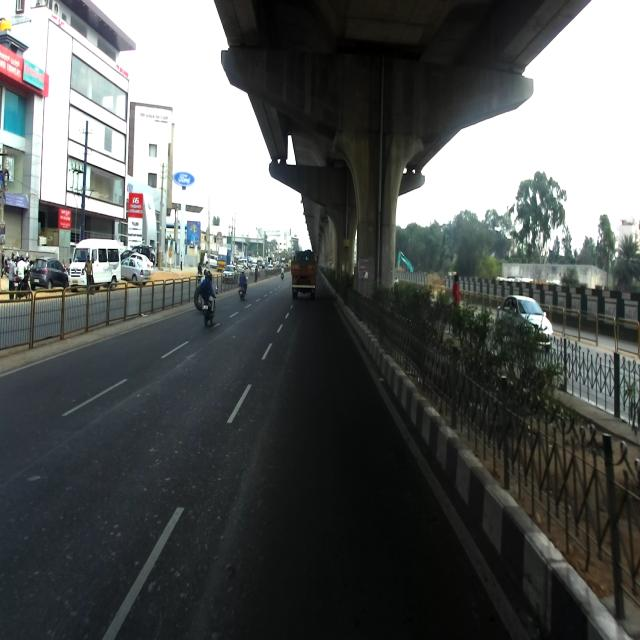motorcycle ahead at: (196, 267, 222, 331)
truck ahead at: (289, 248, 321, 296)
